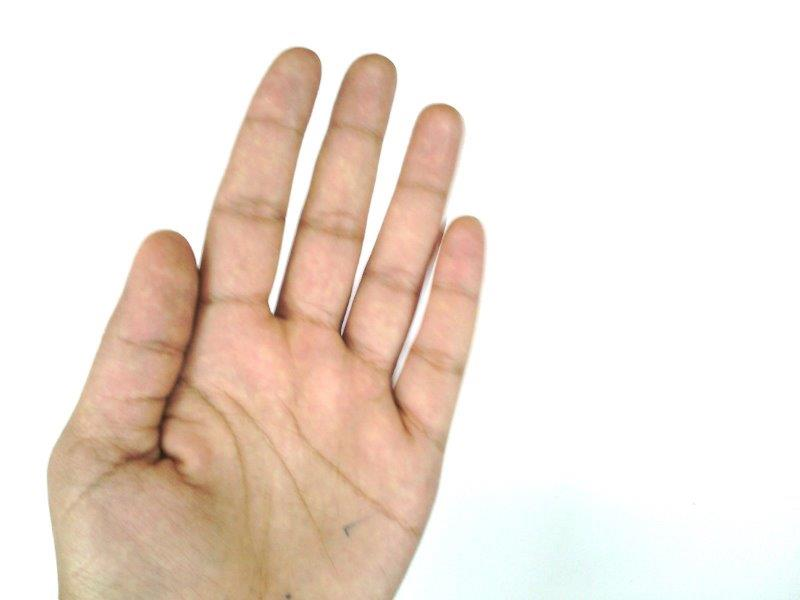hand: (48, 47, 485, 600)
